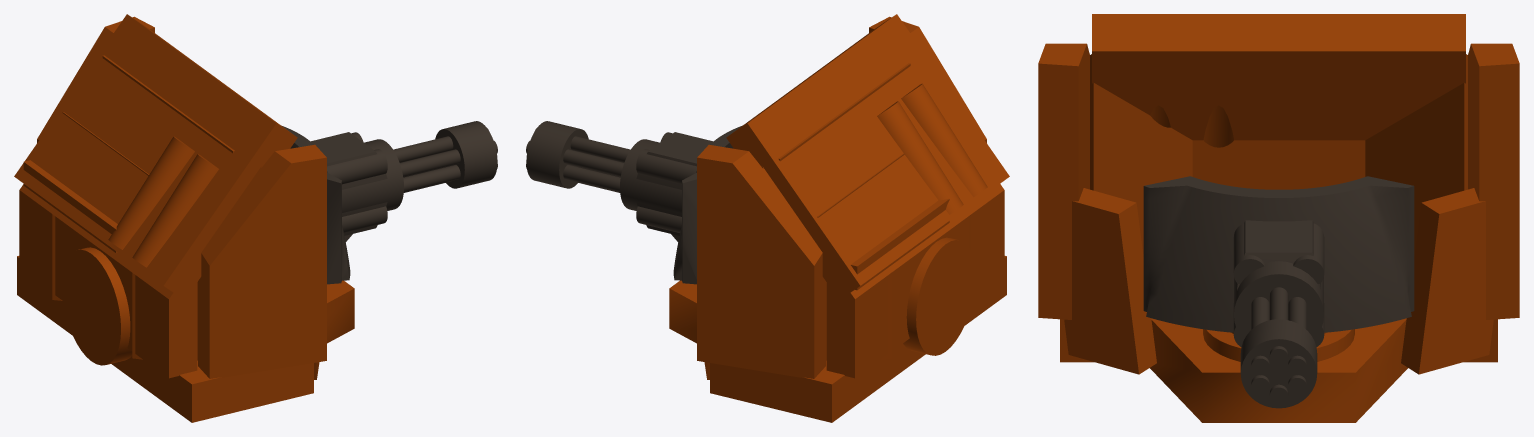
File: Gatling side export.fbx
3 renders of one model, left to right at view 1: azimuth 30°, elevation 25°; view 2: azimuth 150°, elevation 25°; view 3: azimuth 270°, elevation 25°, orthographic. The views are drawn at different scales.
Parts seen in each view (by area): view 1: edges_1, other_bits_1, rotating_bit_1; view 2: edges_1, other_bits_1, rotating_bit_1; view 3: edges_1, other_bits_1, rotating_bit_1.
Boxes of the visible parts, <box> form: edges_1: <box>14,14,354,422</box>; other_bits_1: <box>281,125,403,284</box>; rotating_bit_1: <box>393,121,497,192</box>; edges_1: <box>669,14,1009,422</box>; other_bits_1: <box>620,125,742,284</box>; rotating_bit_1: <box>526,121,630,192</box>; edges_1: <box>1038,14,1519,422</box>; other_bits_1: <box>1143,176,1414,346</box>; rotating_bit_1: <box>1240,287,1317,408</box>.
Bounding box in the file's own units: 44.44 × 28.23 × 36.84.
